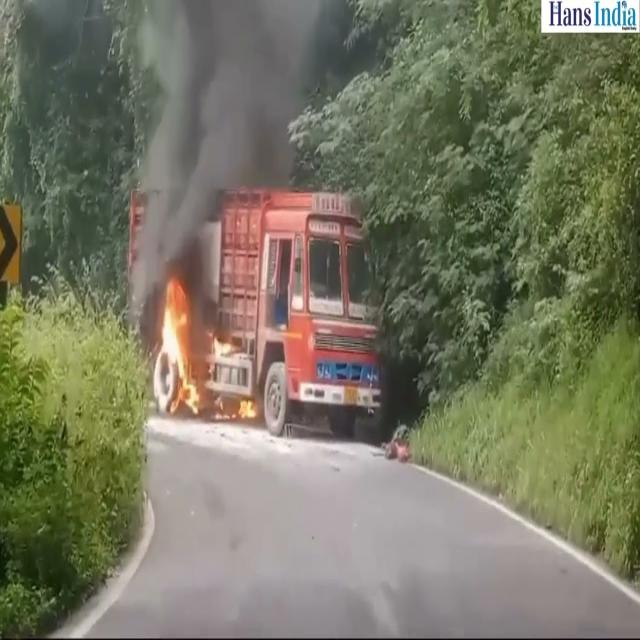accident: (129, 187, 381, 438)
